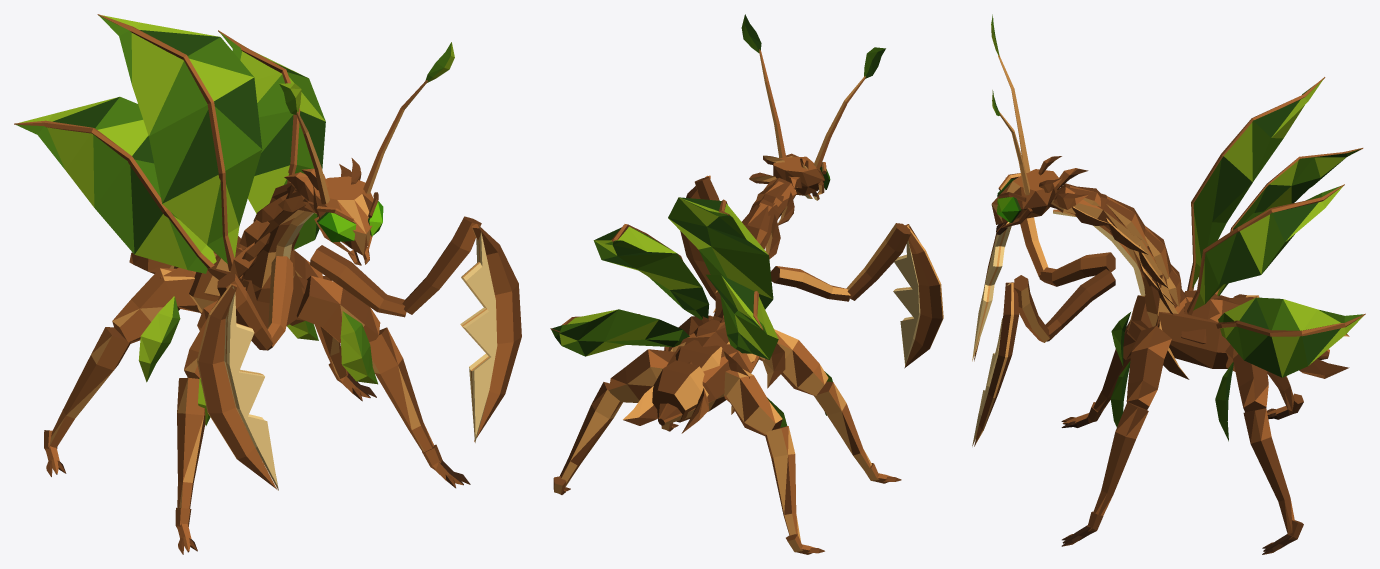
The model's file is mantis-study-complete-pass2.glb.
3 views of the same model, side by side, from view 1: azimuth 30°, elevation 25°; view 2: azimuth 150°, elevation 25°; view 3: azimuth 270°, elevation 25° (orthographic). The views are drawn at different scales.
Parts seen in each view (by area): view 1: Leaf wing wing-1_0, Leaf wing wing-1_1, Leaf wing wing1_0, Swept bevelled wood sickle -1, Swept bevelled wood sickle 1, Bevelled continuous ivory teeth 1, Bevelled continuous ivory teeth -1, Walking femur leg1_0, Walking tibia leg1_0, Walking femur leg-1_1, Walking tibia leg-1_1, Walking tibia leg-1_0 (+17 smaller); view 2: Leaf wing wing-1_0, Leaf wing wing1_0, Leaf wing wing1_1, Leaf wing wing-1_1, Swept bevelled wood sickle -1, Abdomen core, Walking femur leg-1_1, Abdominal tergite 2, Walking tibia leg-1_1, Walking tibia leg1_1, Walking femur leg1_1, Walking femur leg-1_0 (+13 smaller); view 3: Leaf wing wing1_1, Leaf wing wing-1_0, Leaf wing wing1_0, Abdomen core, Rising prothorax curved cervical arch, Leaf wing wing-1_1, Walking femur leg1_0, Walking tibia leg1_1, Walking tibia leg1_0, Swept bevelled wood sickle 1, Walking femur leg1_1, Volumetric pointed insect skull (+20 smaller).
Part boxes in pixels (x1,y1,x2,y2): Leaf wing wing-1_0: [99, 15, 262, 263]; Leaf wing wing-1_1: [16, 96, 216, 273]; Leaf wing wing1_0: [219, 32, 325, 213]; Swept bevelled wood sickle -1: [197, 284, 277, 489]; Swept bevelled wood sickle 1: [472, 223, 521, 441]; Bevelled continuous ivory teeth 1: [460, 225, 497, 442]; Bevelled continuous ivory teeth -1: [224, 285, 278, 490]; Walking femur leg1_0: [296, 276, 380, 343]; Walking tibia leg1_0: [369, 327, 433, 451]; Walking femur leg-1_1: [112, 268, 199, 343]; Walking tibia leg-1_1: [49, 327, 130, 447]; Walking tibia leg-1_0: [177, 377, 205, 508]; Leaf wing wing-1_0: [668, 197, 773, 309]; Leaf wing wing1_0: [593, 226, 709, 319]; Leaf wing wing1_1: [551, 309, 689, 356]; Leaf wing wing-1_1: [706, 274, 778, 359]; Swept bevelled wood sickle -1: [904, 224, 943, 368]; Abdomen core: [657, 319, 759, 425]; Walking femur leg-1_1: [724, 369, 782, 435]; Abdominal tergite 2: [652, 360, 708, 422]; Walking tibia leg-1_1: [765, 426, 800, 541]; Walking tibia leg1_1: [560, 382, 622, 487]; Walking femur leg1_1: [609, 349, 674, 402]; Walking femur leg-1_0: [759, 329, 828, 395]; Leaf wing wing1_1: [1218, 297, 1363, 377]; Leaf wing wing-1_0: [1192, 79, 1323, 288]; Leaf wing wing1_0: [1193, 185, 1342, 310]; Abdomen core: [1155, 295, 1329, 368]; Rising prothorax curved cervical arch: [1049, 183, 1188, 326]; Leaf wing wing-1_1: [1217, 148, 1361, 295]; Walking femur leg1_0: [1126, 325, 1171, 409]; Walking tibia leg1_1: [1243, 408, 1294, 533]; Walking tibia leg1_0: [1093, 402, 1148, 515]; Swept bevelled wood sickle 1: [974, 282, 1019, 446]; Walking femur leg1_1: [1225, 344, 1268, 412]; Volumetric pointed insect skull: [991, 169, 1059, 224].
Bounding box in the file's own units: 2.73 × 3.88 × 3.2.
